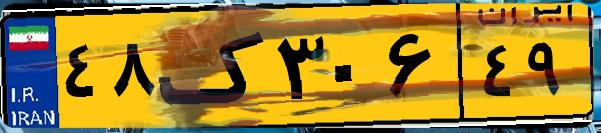0: (330, 28, 385, 110)
3: (270, 28, 330, 110)
4: (57, 26, 110, 100), (475, 38, 525, 113)
6: (385, 28, 445, 110)
8: (110, 28, 158, 98)
9: (525, 38, 570, 115)
ک: (158, 12, 270, 120)
